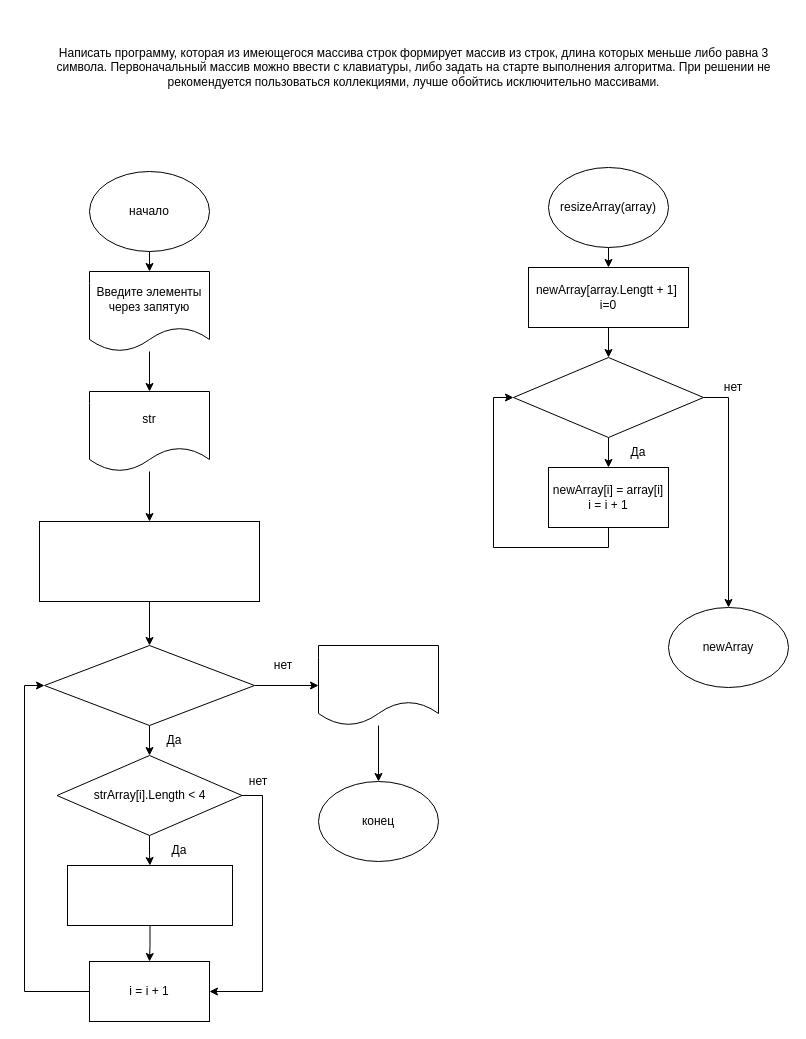
Some shapes in this 806 by 1039 pixel diagram are drawn without their labels. The shapes that lost their labels are listed below. From the top down, each one's centre as x and y in pixels, then its label:
At (608,397): "i < array.Length".
At (149,561): "size = str.Split(',').Length strArray[size] result[0] i = 0".
At (149,685): "i < size".
At (378,685): "print(result)".
At (149,895): "result = resizeArray(result)".
